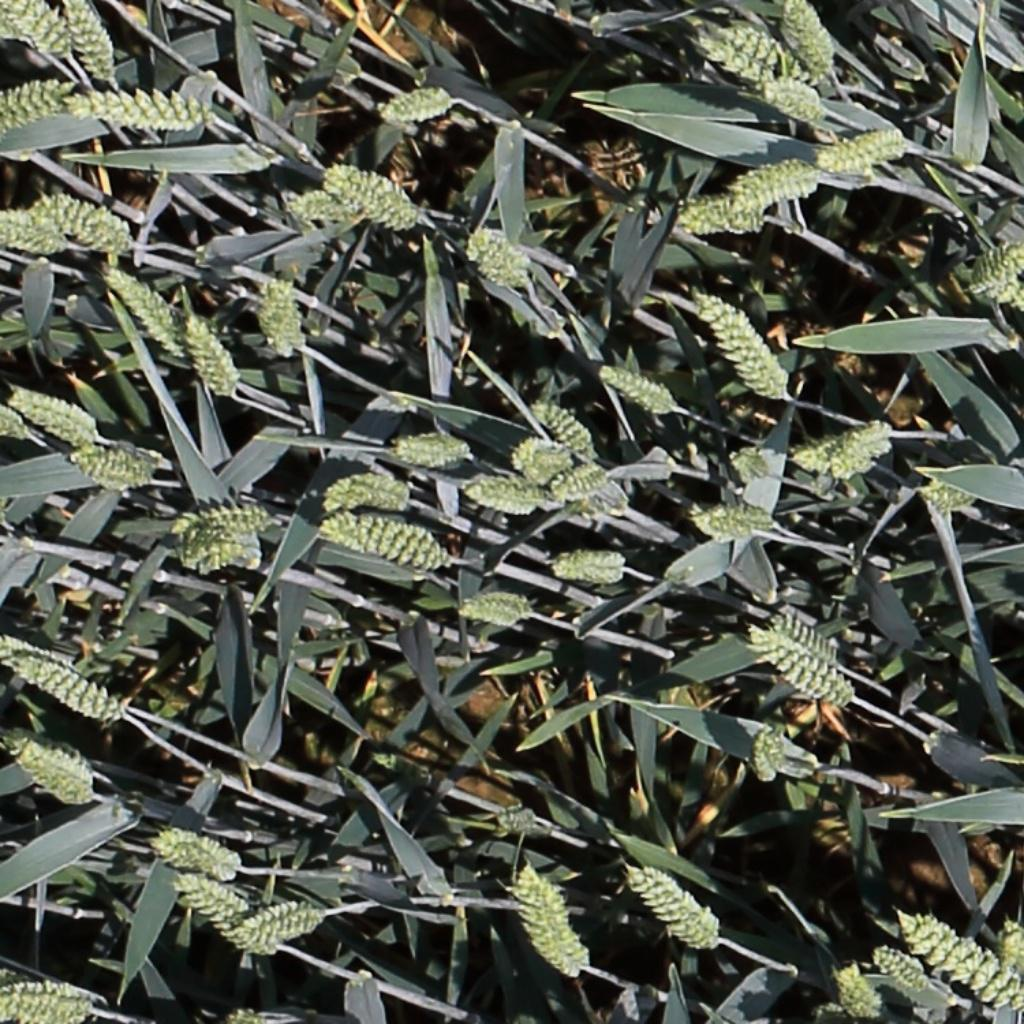0-0: (906, 913, 1024, 1017), (68, 73, 218, 148), (696, 285, 789, 398), (513, 865, 598, 975), (628, 866, 729, 951), (103, 260, 187, 357), (755, 630, 851, 705), (10, 651, 118, 714), (324, 516, 451, 569), (177, 876, 257, 951), (326, 163, 417, 225), (8, 389, 101, 448), (9, 741, 99, 801), (0, 973, 103, 1024), (231, 903, 321, 960), (182, 312, 238, 401), (62, 0, 118, 88), (34, 193, 124, 245), (173, 528, 262, 578), (733, 158, 825, 206), (785, 0, 839, 81), (530, 397, 596, 463), (827, 413, 895, 477), (155, 824, 236, 877), (952, 241, 1024, 298), (815, 131, 910, 174), (693, 39, 770, 90), (323, 465, 412, 509), (4, 0, 72, 55), (600, 364, 677, 412), (771, 613, 843, 663), (680, 193, 770, 233), (722, 19, 790, 71), (259, 274, 299, 360), (466, 229, 527, 285), (465, 470, 551, 509), (836, 958, 888, 1021), (921, 469, 985, 519), (693, 501, 776, 539), (70, 449, 154, 484), (0, 629, 69, 671), (0, 84, 66, 126), (544, 462, 616, 500), (378, 90, 454, 125), (793, 435, 859, 475), (394, 426, 471, 460), (761, 80, 826, 120), (0, 211, 64, 251), (875, 948, 933, 992), (281, 185, 348, 223), (462, 587, 531, 622), (550, 547, 629, 577), (567, 480, 629, 517), (727, 445, 776, 486), (755, 723, 783, 791), (998, 917, 1022, 981), (490, 810, 545, 837), (0, 390, 27, 436), (0, 0, 24, 43), (993, 276, 1024, 309), (225, 1008, 264, 1024)
